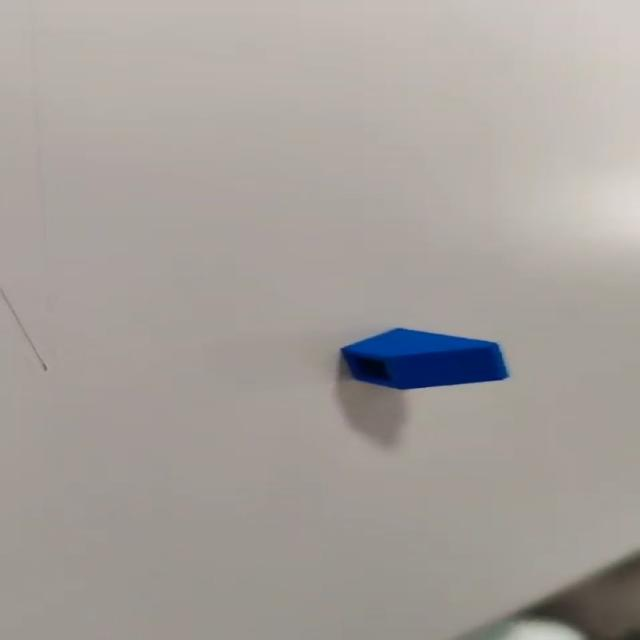X1x2x1: (334, 324, 518, 397)
